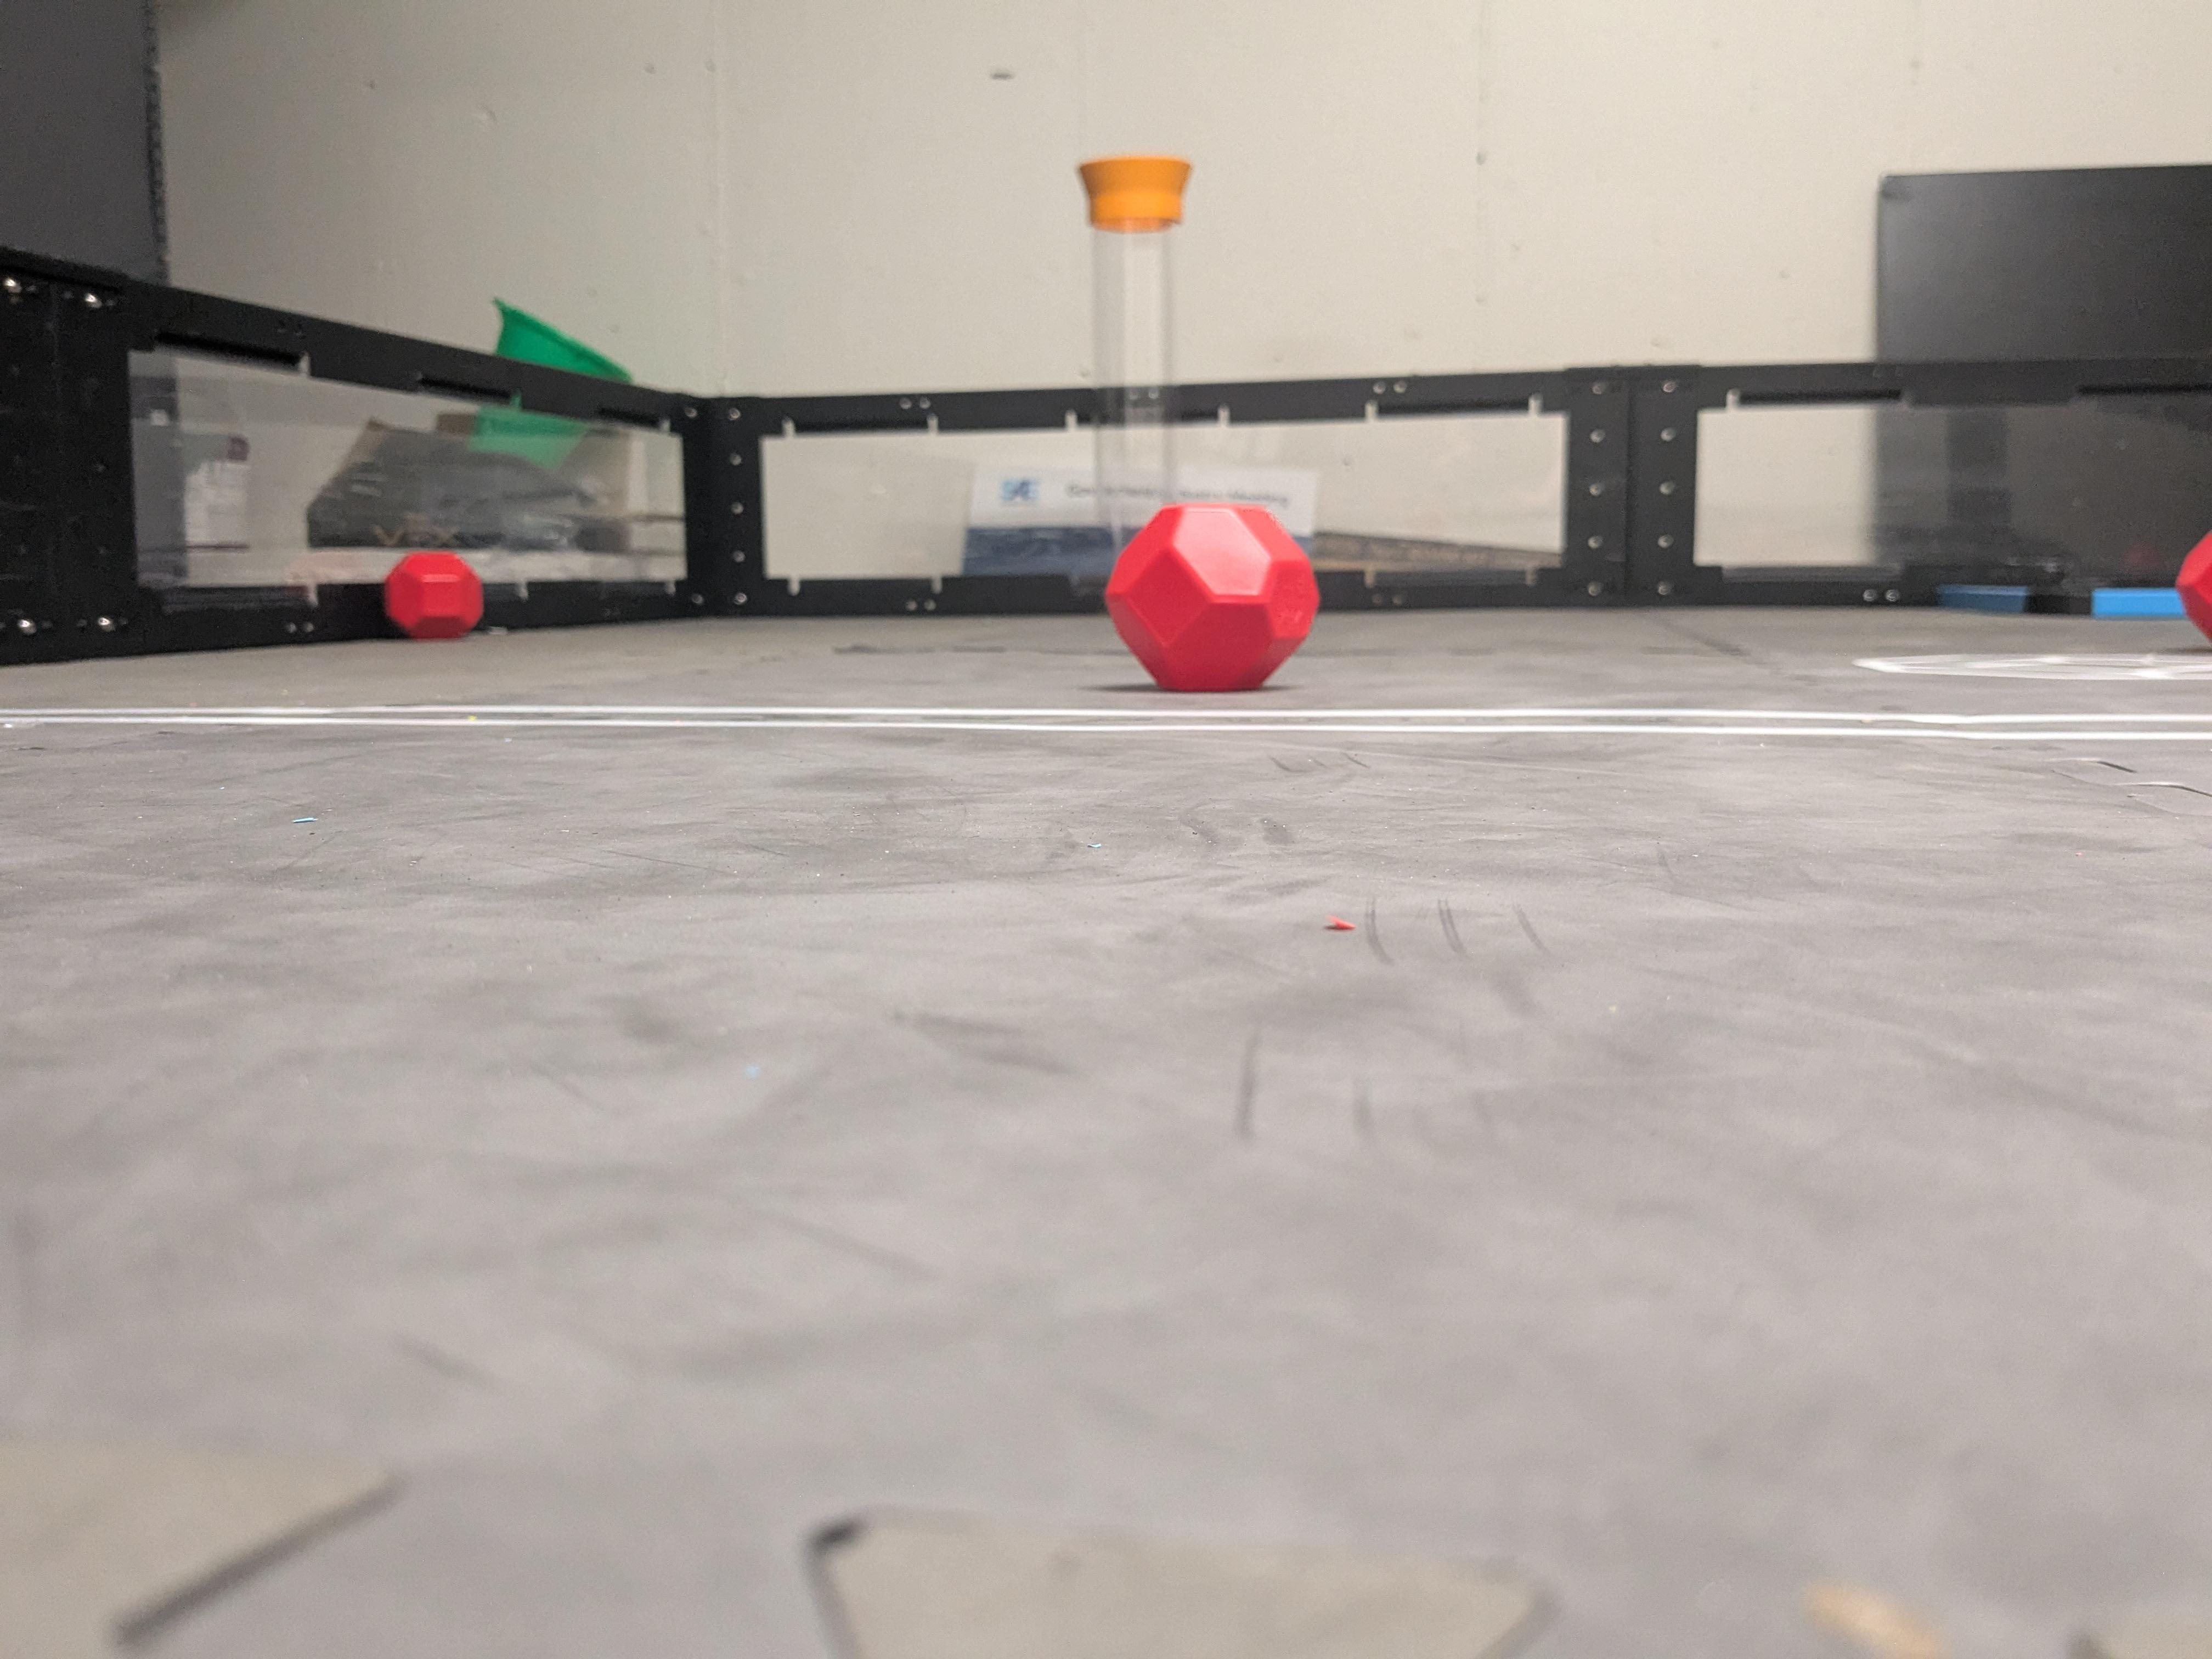Vex-Pieces-RED: (1113, 509, 1313, 688), (383, 551, 482, 638), (2175, 532, 2212, 640)
